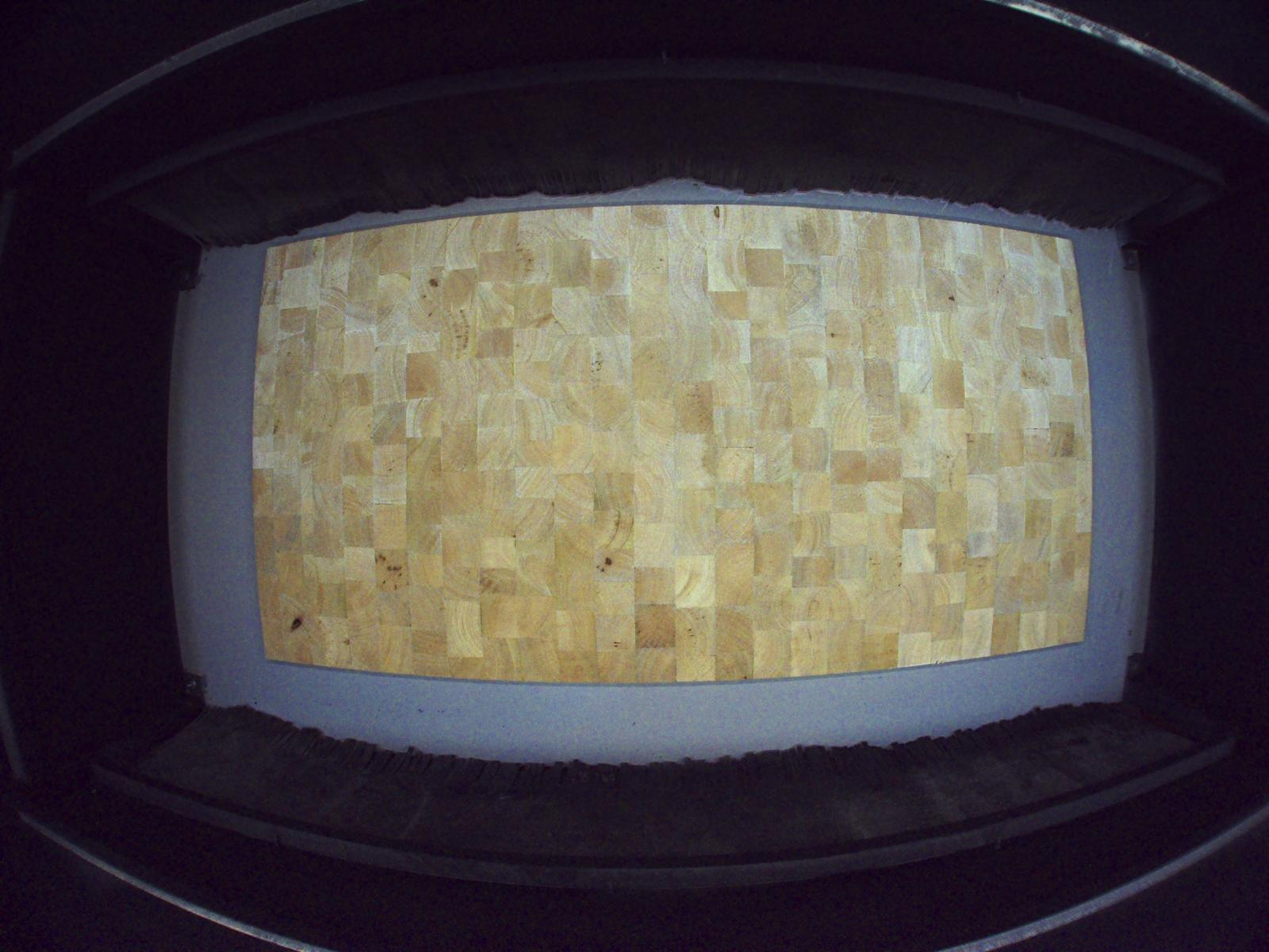sheck_ecuatoriano: (286, 611, 310, 637)
